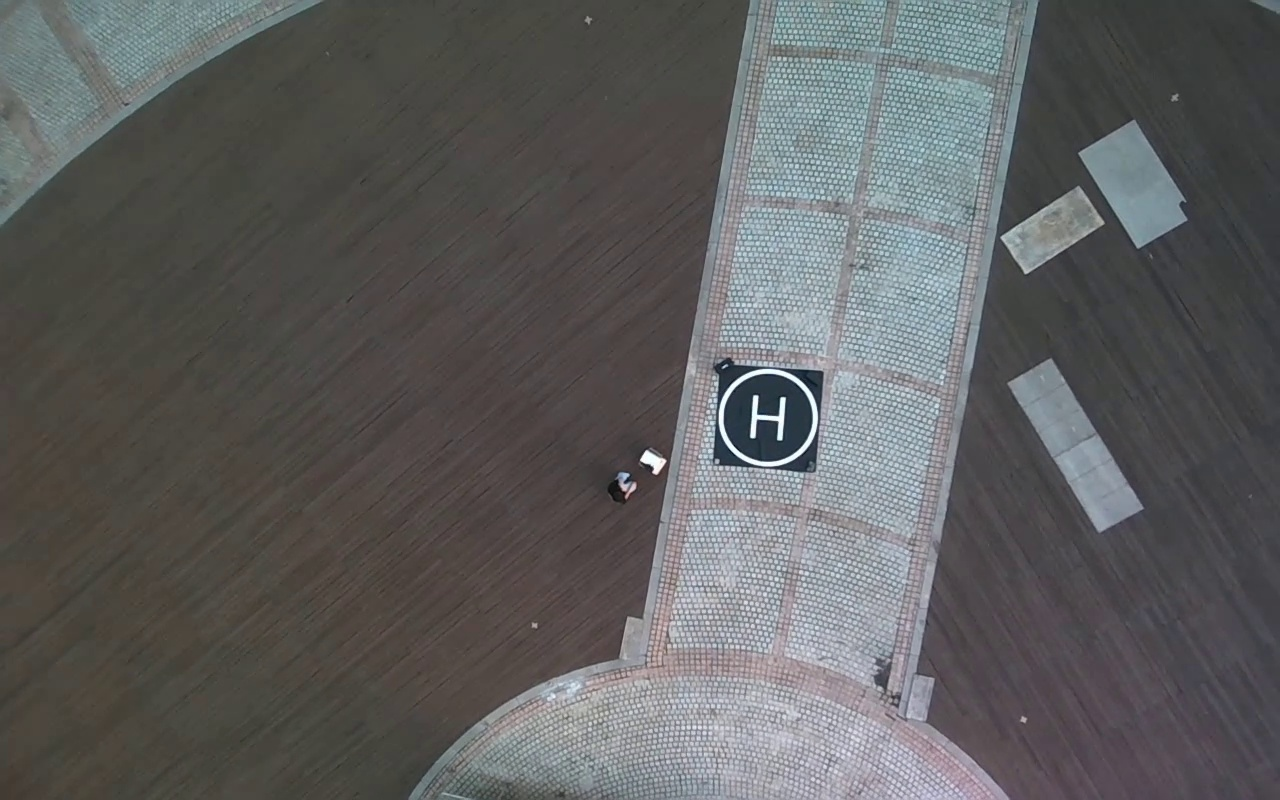H: (748, 393, 787, 441)
heliport: (719, 368, 818, 466)
